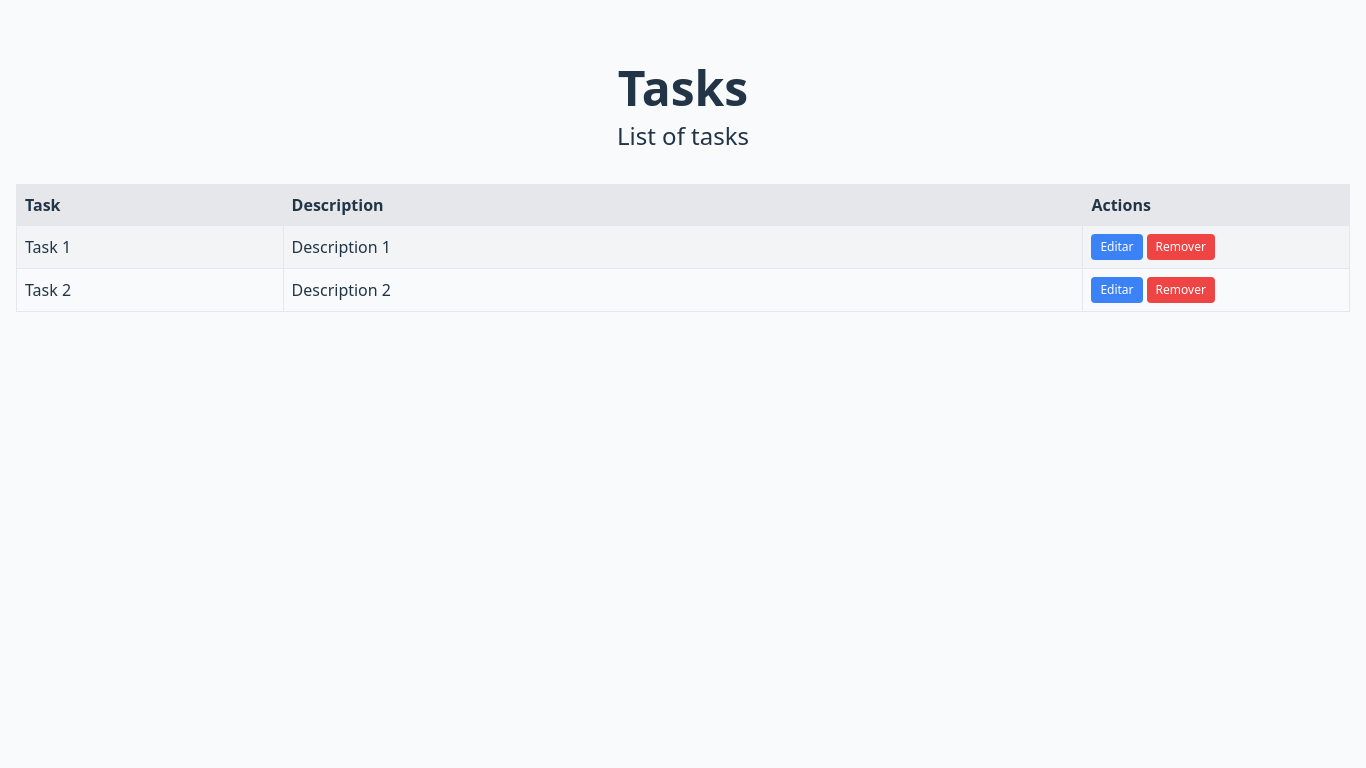
it: Tasks Component - Delete Modal › should delete task when confirm button is clicked
The image size is (1366, 768).
Expected: the text "Task 1" is shown, [16, 226, 283, 268]
# Open modal
Click the button "Remover" in the row of "Task 1": [1181, 247] box [1147, 234, 1215, 260]
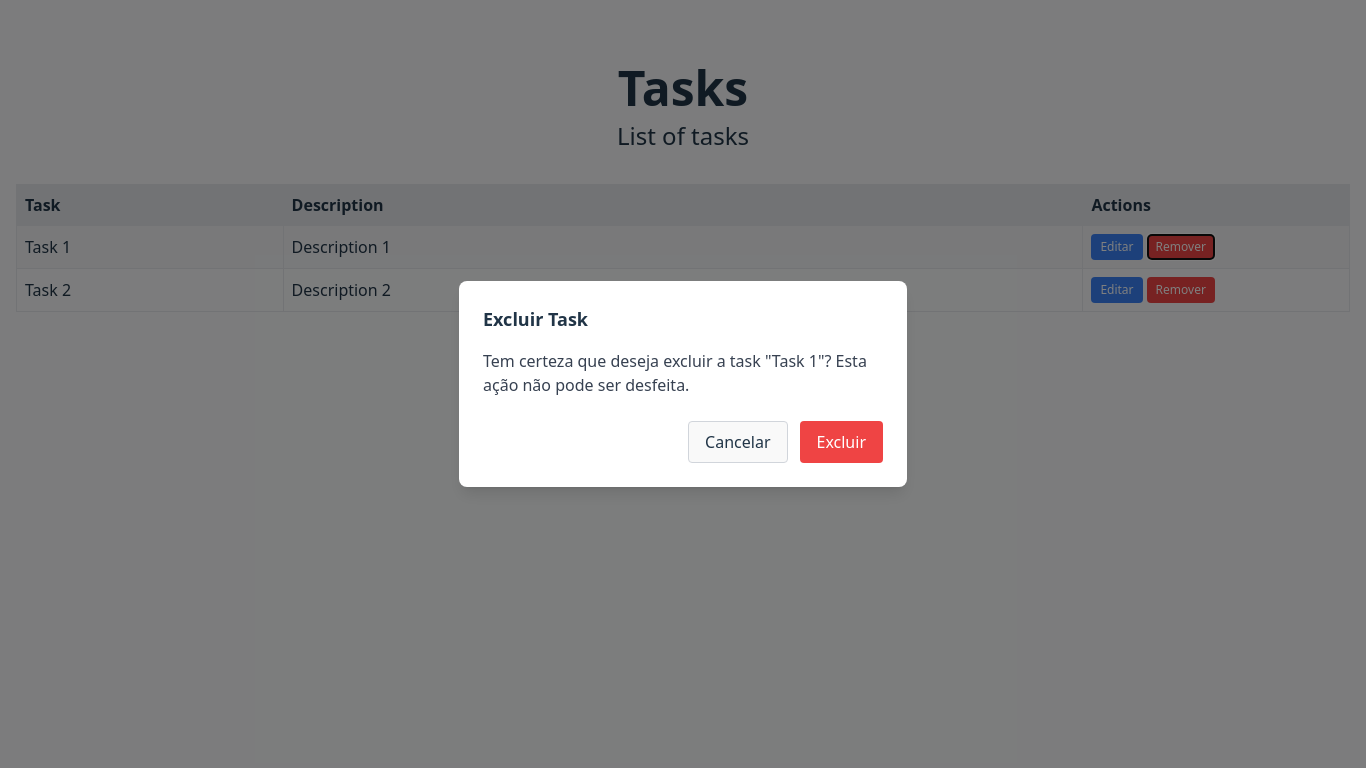
# Confirm deletion
Click the button "Excluir": [841, 442] box [800, 421, 883, 463]
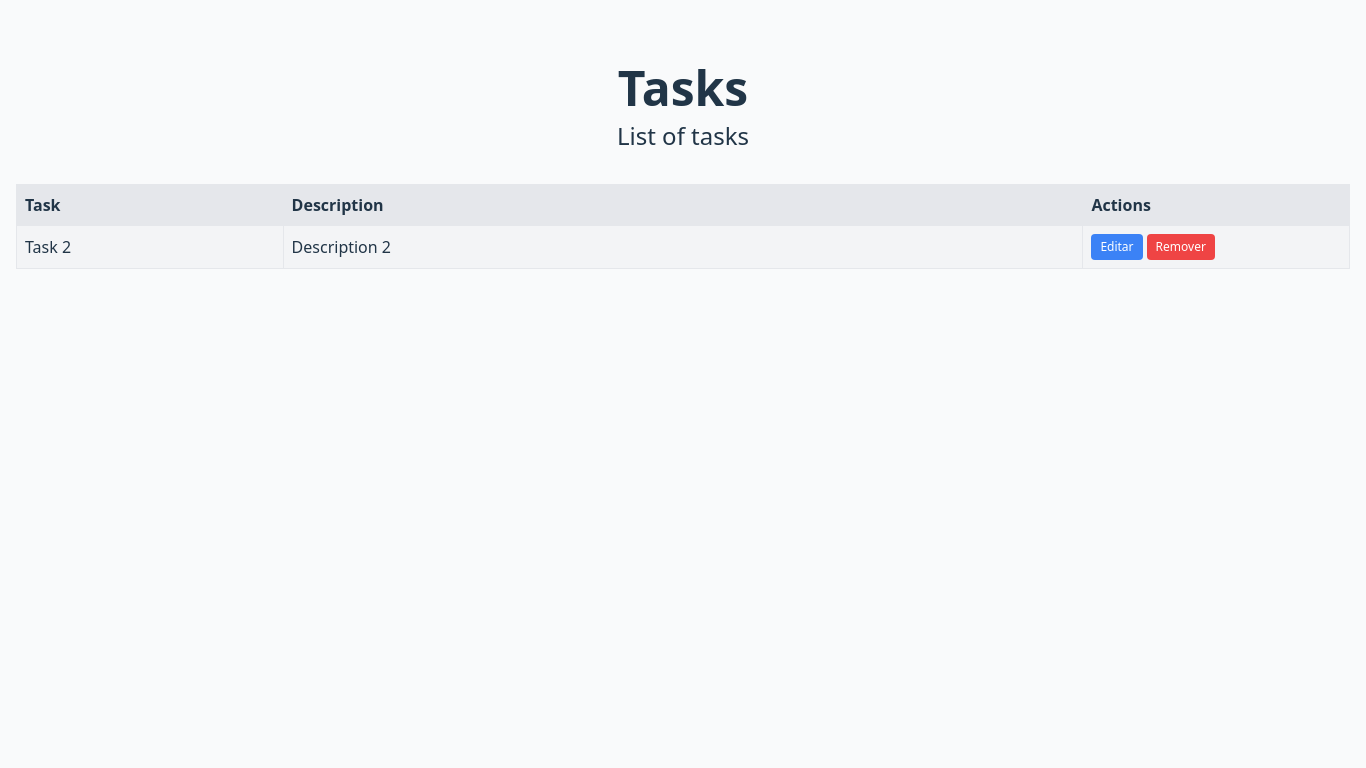
Expected: the heading "Excluir Task" is gone
